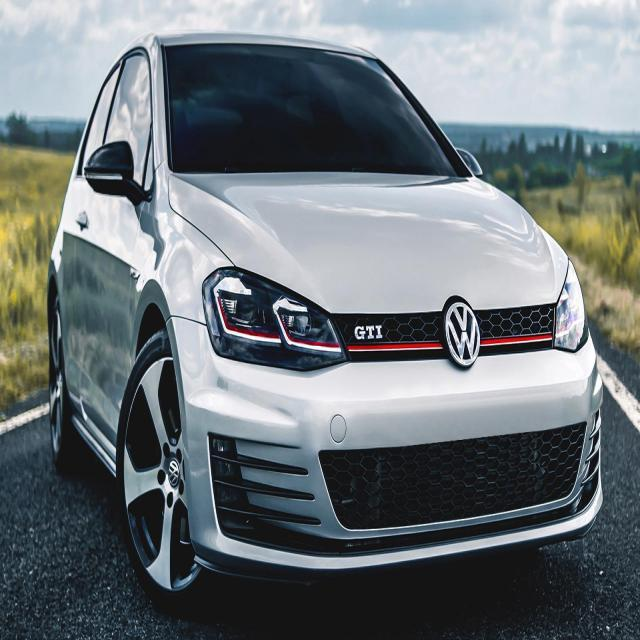Hatchback: (47, 32, 603, 597)
